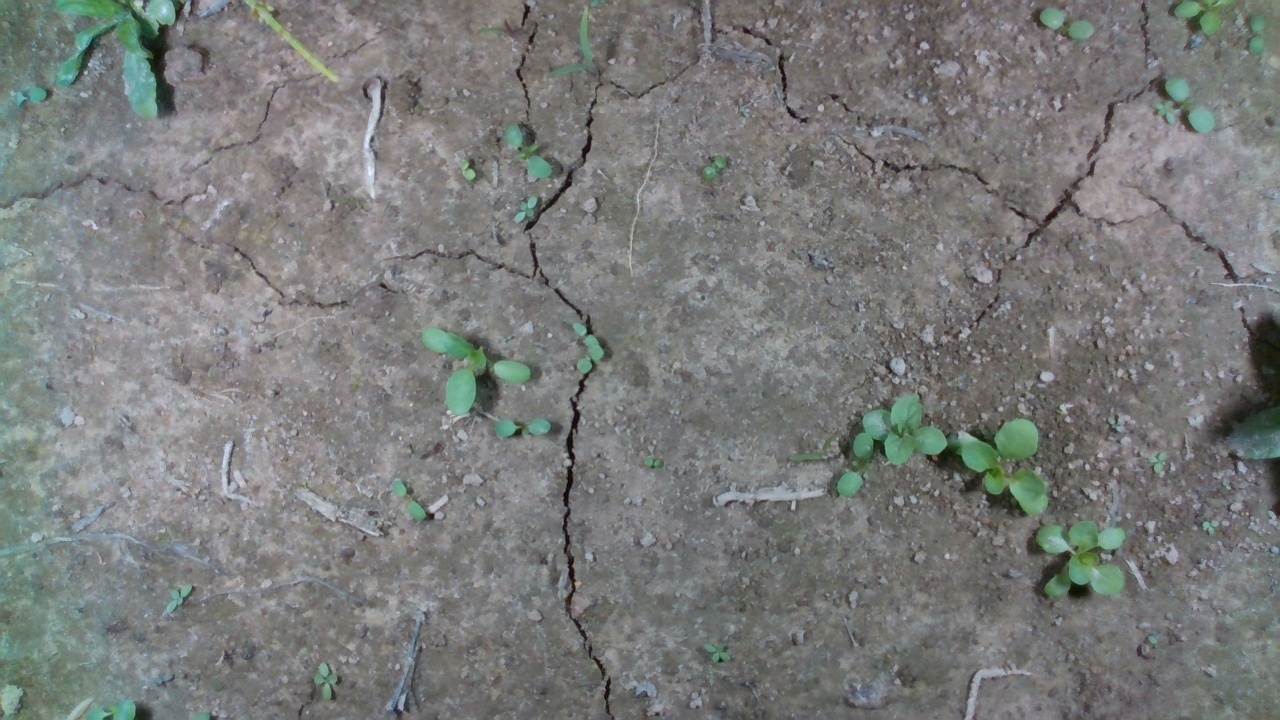weed: (501, 122, 555, 179), (493, 412, 580, 439), (383, 476, 424, 531), (512, 190, 546, 236), (1194, 511, 1230, 542), (693, 153, 735, 179), (159, 580, 195, 606), (311, 661, 340, 686), (1102, 407, 1127, 432), (1144, 443, 1166, 468), (635, 452, 666, 469), (458, 159, 482, 180)
